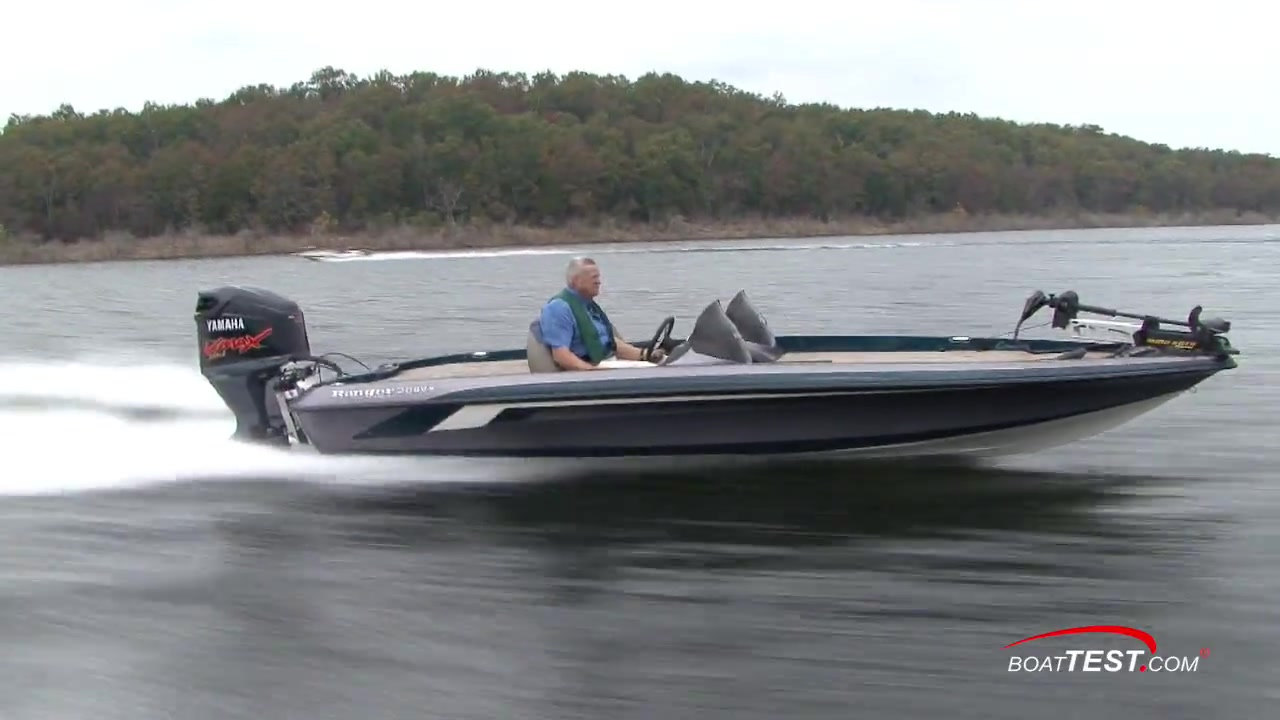boat: (188, 281, 1244, 484)
